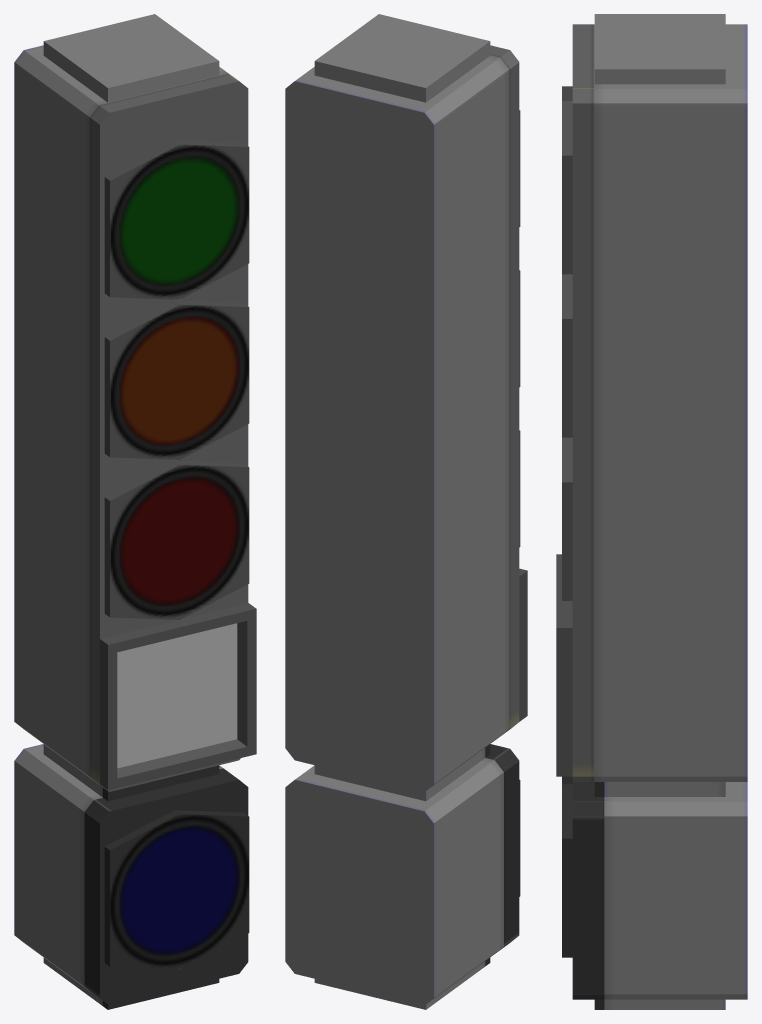
Rendered from SW_PROP_SignalLights.fbx.
3 views of the same model, side by side, from view 1: azimuth 30°, elevation 25°; view 2: azimuth 150°, elevation 25°; view 3: azimuth 270°, elevation 25° (orthographic). The views are drawn at different scales.
Visible parts, largest first — view 1: SW_PROP_SignalLights; view 2: SW_PROP_SignalLights; view 3: SW_PROP_SignalLights.
Boxes of the visible parts, x1,y1,x2,y2 form: SW_PROP_SignalLights: [14, 14, 256, 1009]; SW_PROP_SignalLights: [285, 14, 527, 1009]; SW_PROP_SignalLights: [556, 14, 747, 1009].
Bounding box in the file's own units: 16 × 95 × 17.5.
